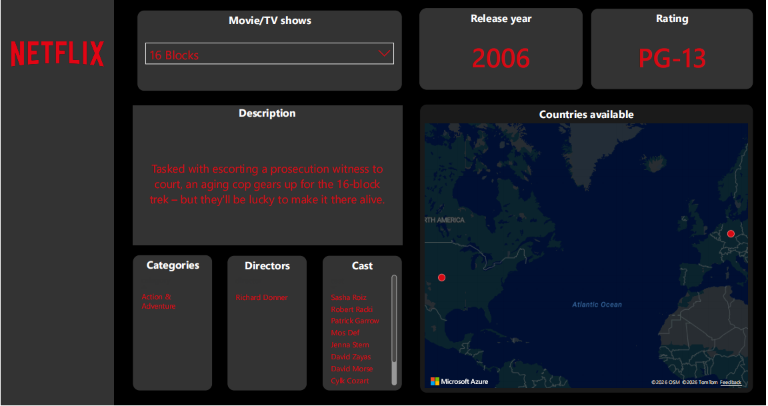

The page's visual inventory and layout, read from the dashboard file:
{"tool":"powerbi","page":{"name":"Netflix Title Explorer Dashboard","canvas":[1350,720],"ordinal":1},"visuals":[{"type":"shape","box":[0,0,200,720],"z":0},{"type":"cardVisual","title":"Rating","fields":{"Data":["Min(netflix_titles.rating)"]},"box":[1041.3,16,287.5,143.7],"z":1000},{"type":"azureMap","title":"Countries available","fields":{"Category":["countries_released.country"],"Size":["CountNonNull(countries_released.show_id)"]},"box":[739.4,185.3,589.3,511],"z":2000},{"type":"image","box":[0,0,200,188.3],"z":3000},{"type":"slicer","title":"Movie/TV shows","fields":{"Values":["netflix_titles.title"]},"box":[239.6,19.2,469.5,143.7],"z":4000},{"type":"cardVisual","title":"Release year","fields":{"Data":["Sum(netflix_titles.release_year)"]},"box":[739.4,16,287.5,143.7],"z":5000},{"type":"tableEx","title":"Directors","fields":{"Values":["netflix_directors.director"]},"box":[399.3,452,142.1,239.6],"z":6000},{"type":"tableEx","title":"Categories","fields":{"Values":["netflix_listed_in.category"]},"box":[232.5,451.3,142,240.2],"z":7000},{"type":"cardVisual","title":"Description","fields":{"Data":["Min(description.description)"]},"box":[233.2,188.4,475.9,245.9],"z":8000},{"type":"tableEx","title":"Cast","fields":{"Values":["netflix_cast.cast"]},"box":[566.9,452,142.1,239.6],"z":9000}]}

Visuals, with their boxes in screenshot pixels (x1, y1, x2, y2), scaled from the page's 1350x720 canvas onto the 768x406 screenshot:
shape: {"left": 0, "top": 0, "right": 114, "bottom": 405}
"Rating" cardVisual: {"left": 592, "top": 9, "right": 756, "bottom": 90}
"Countries available" azureMap: {"left": 421, "top": 104, "right": 756, "bottom": 393}
image: {"left": 0, "top": 0, "right": 114, "bottom": 106}
"Movie/TV shows" slicer: {"left": 136, "top": 11, "right": 403, "bottom": 92}
"Release year" cardVisual: {"left": 421, "top": 9, "right": 584, "bottom": 90}
"Directors" tableEx: {"left": 227, "top": 255, "right": 308, "bottom": 390}
"Categories" tableEx: {"left": 132, "top": 254, "right": 213, "bottom": 390}
"Description" cardVisual: {"left": 133, "top": 106, "right": 403, "bottom": 245}
"Cast" tableEx: {"left": 323, "top": 255, "right": 403, "bottom": 390}
